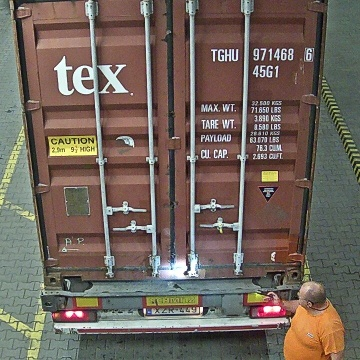serial_id: (211, 47, 314, 61)
